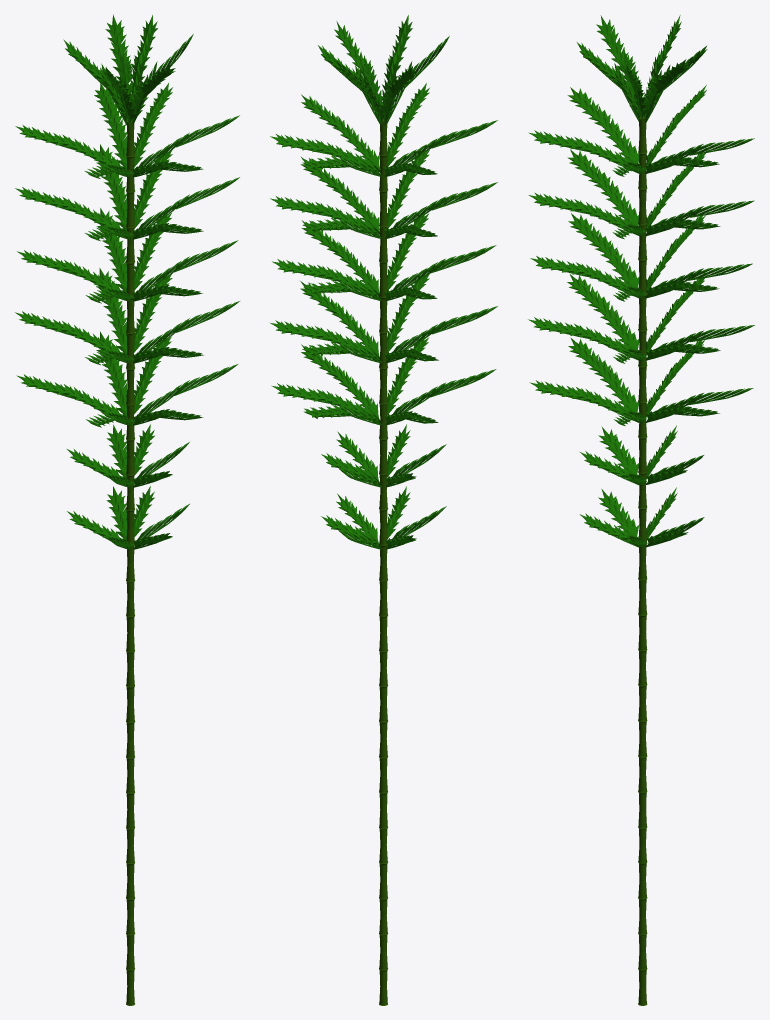
File: bamboo_tree.fbx
The picture shows the model from 3 angles, left to right: view 1: azimuth 30°, elevation 25°; view 2: azimuth 150°, elevation 25°; view 3: azimuth 270°, elevation 25°; orthographic projection.
Parts seen in each view (by area): view 1: branch.011, Bamboo rod.001; view 2: branch.011, Bamboo rod.001; view 3: branch.011, Bamboo rod.001.
Part boxes in pixels (x1,y1,x2,y2): branch.011: [15, 14, 239, 549]; Bamboo rod.001: [126, 119, 135, 1005]; branch.011: [269, 15, 497, 549]; Bamboo rod.001: [379, 118, 388, 1005]; branch.011: [528, 15, 754, 547]; Bamboo rod.001: [638, 116, 647, 1005].
Size of the model in its own units: 617 by 3125 by 668.
